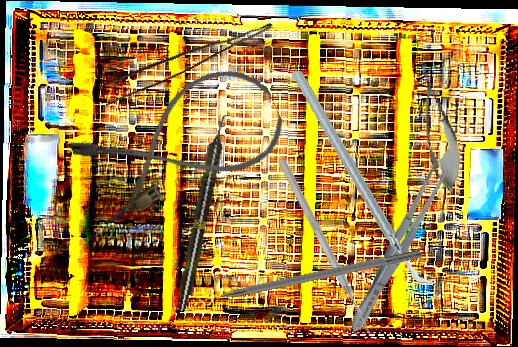Cannula: (66, 53, 294, 231)
Chopper: (291, 57, 436, 300)
Dressing Forceps: (343, 160, 452, 337)
Handpiece: (173, 112, 232, 313)
Hook Surgical: (191, 246, 422, 307)
Micro Scissor: (407, 58, 469, 197)
Pusher: (275, 157, 376, 337)
Tissue Forceps: (96, 3, 274, 112)
